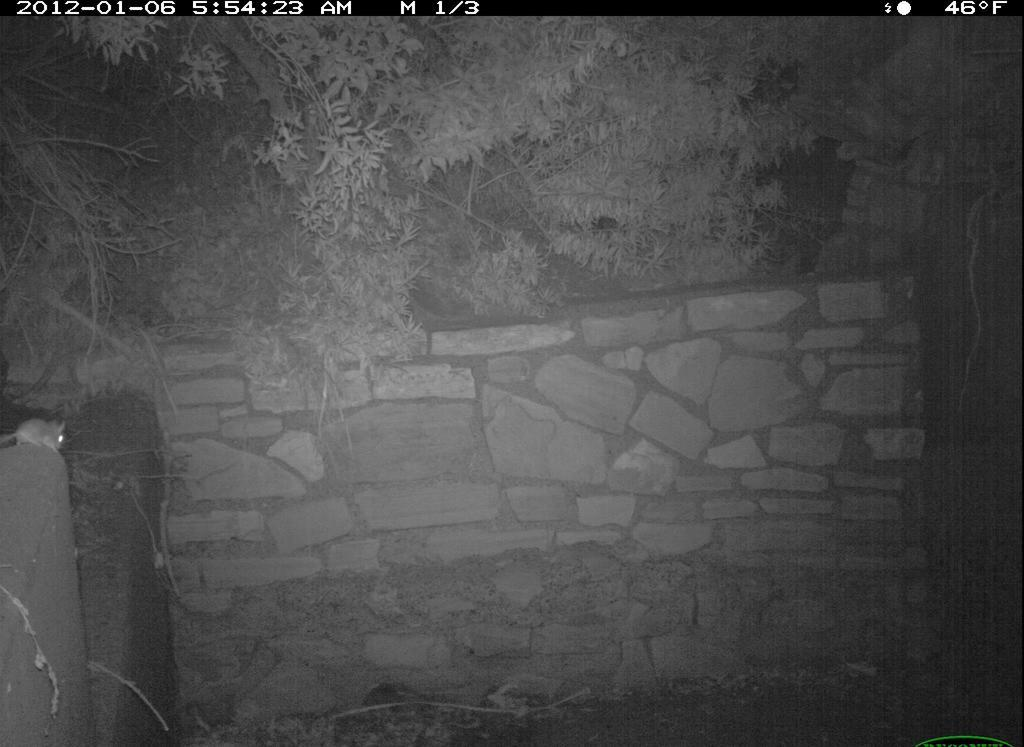rodent: (17, 396, 77, 465)
